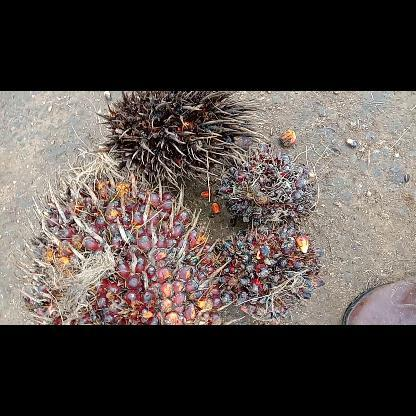Janjang kosong: (89, 91, 270, 193)
TBS abnormal: (214, 226, 324, 320), (212, 142, 319, 233)
TBS masak: (17, 155, 225, 324)
